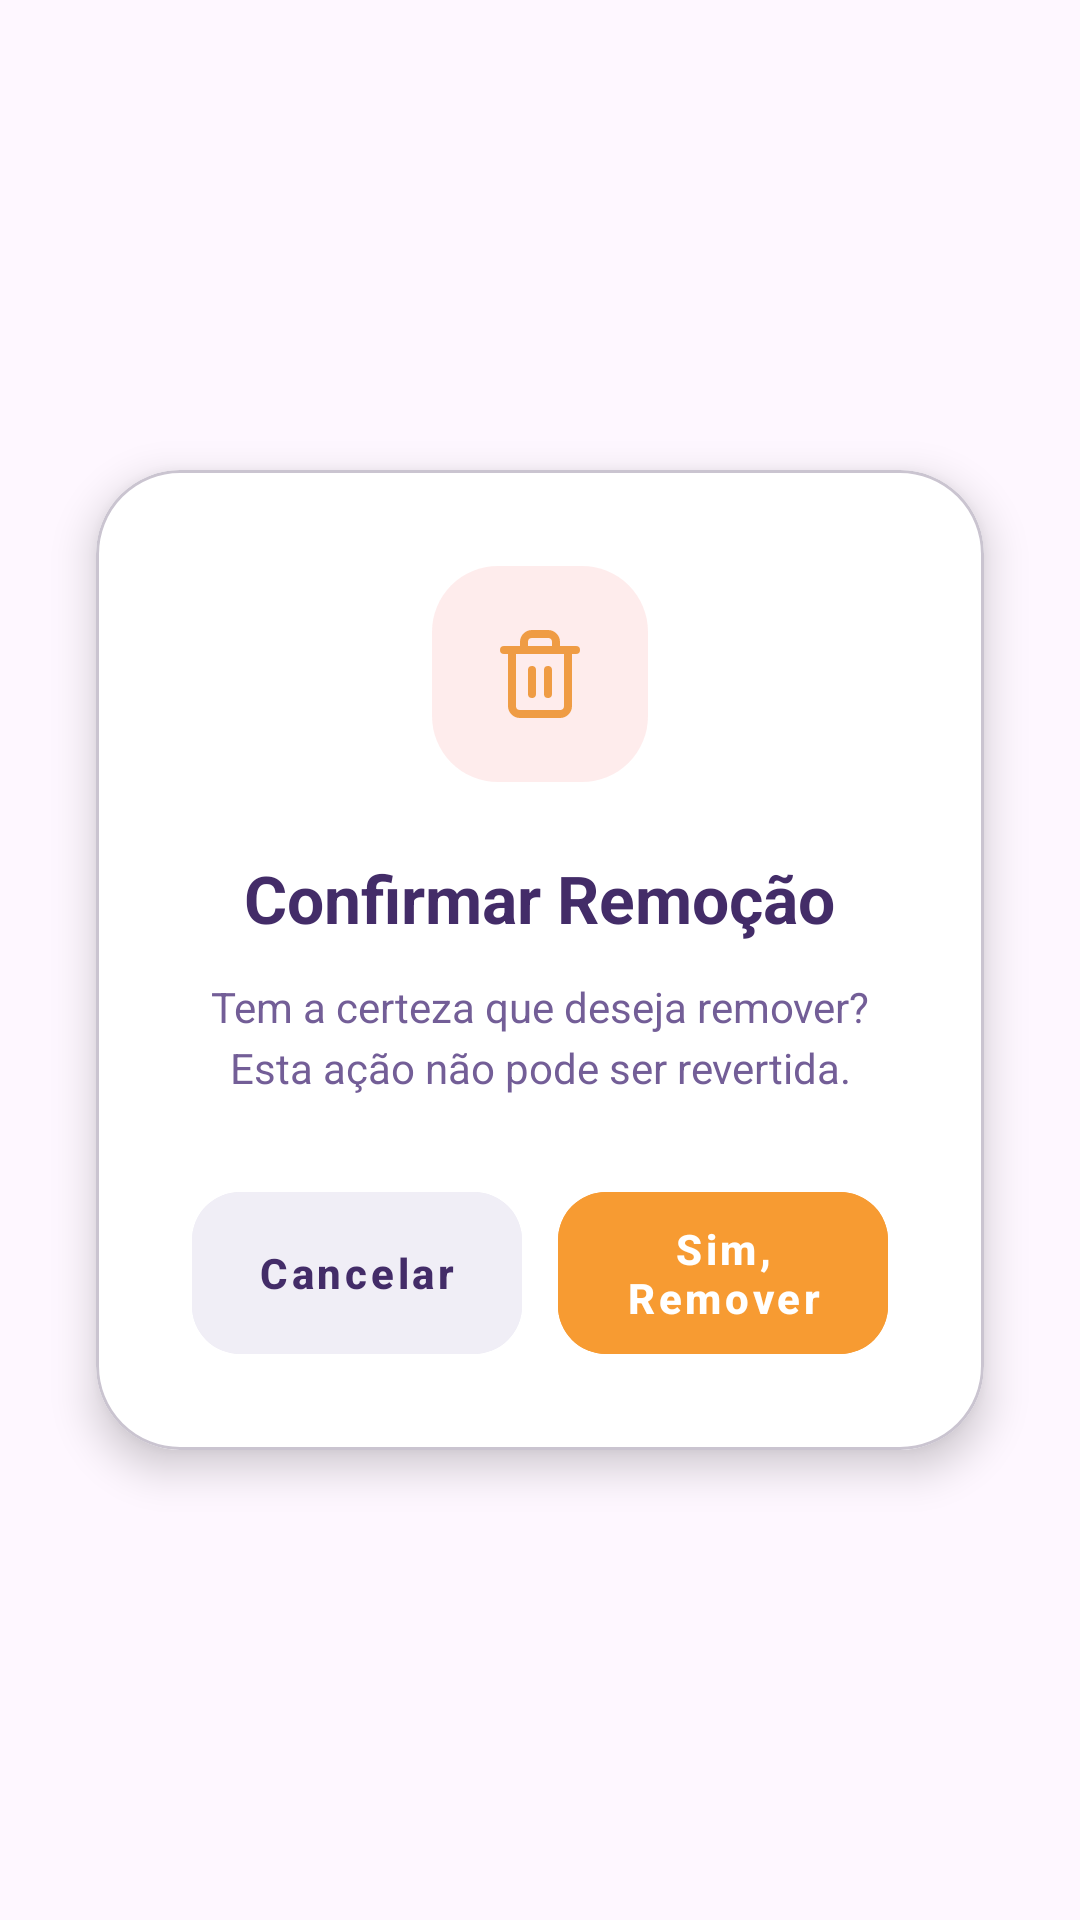

Where icons sit on this 1080 x 1920 app screen, as (x1, y1, x2, y2):
delete: (500, 630, 580, 718)
